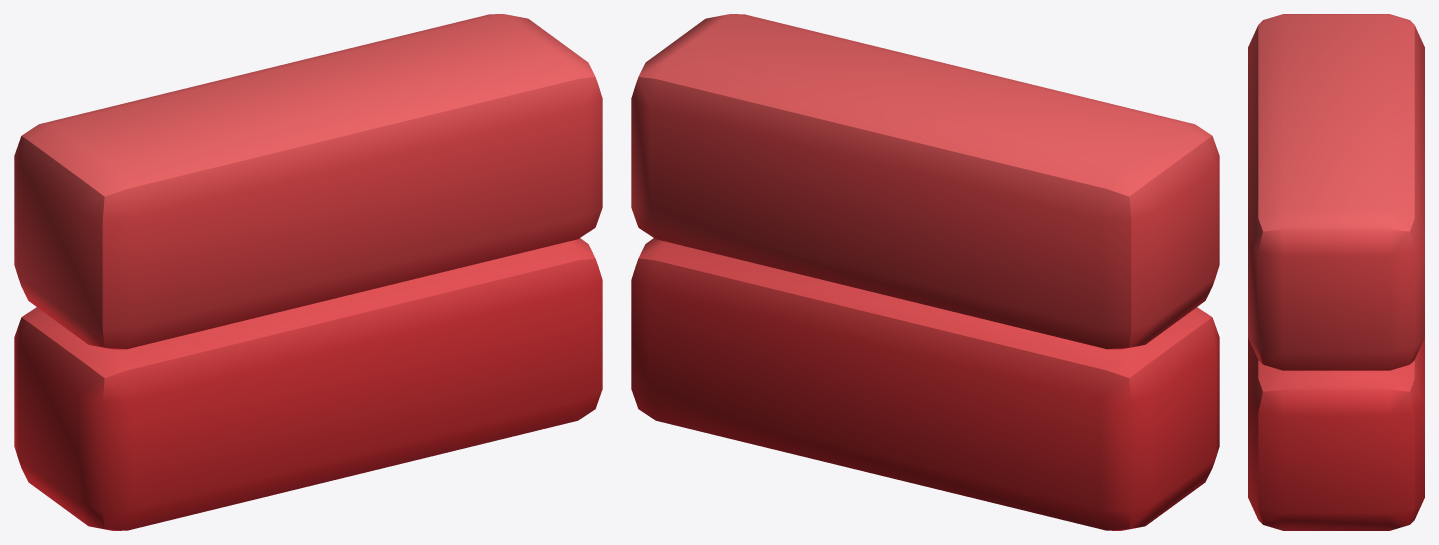
The model's file is barrier_3x1x2_red.glb.
The picture shows the model from 3 angles, left to right: view 1: azimuth 30°, elevation 25°; view 2: azimuth 150°, elevation 25°; view 3: azimuth 270°, elevation 25°; orthographic projection. The views are drawn at different scales.
Visible parts, largest first — view 1: barrier_3x1x2_red; view 2: barrier_3x1x2_red; view 3: barrier_3x1x2_red.
Boxes of the visible parts, left/top/right/bottom form: barrier_3x1x2_red: left=14, top=14, right=602, bottom=530; barrier_3x1x2_red: left=631, top=14, right=1219, bottom=530; barrier_3x1x2_red: left=1248, top=14, right=1424, bottom=530.
Size of the model in its own units: 3 by 2 by 1.
1 material, 1 textured.
